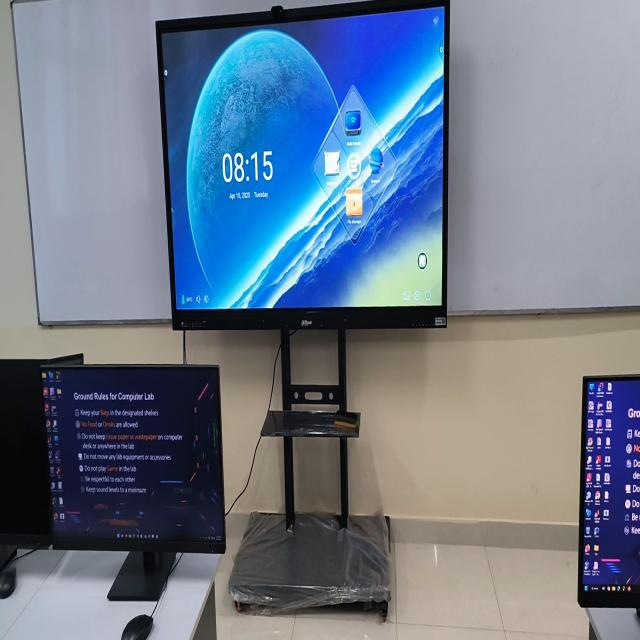Digital board: (156, 0, 449, 616)
Monitor: (41, 365, 225, 601), (578, 375, 640, 616), (0, 357, 55, 568)
Mouse: (121, 614, 153, 639), (0, 568, 17, 599)
